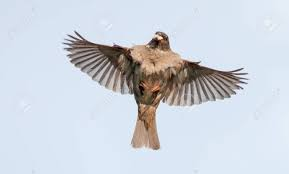hsparrow: (61, 24, 253, 155)
